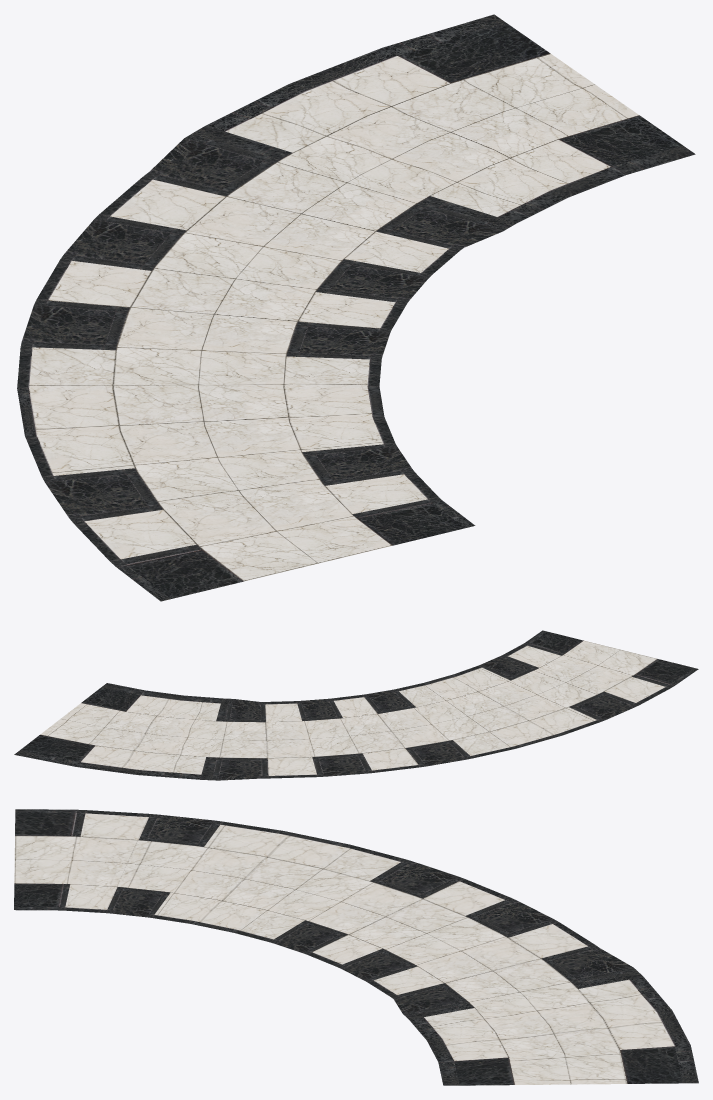
The model's file is Hallway_Floor.FBX.
3 renders of one model, top to bottom at view 1: azimuth 30°, elevation 25°; view 2: azimuth 150°, elevation 25°; view 3: azimuth 270°, elevation 25°, orthographic. The views are drawn at different scales.
Visible parts, largest first — view 1: SM_L_Hallway_Floor; view 2: SM_L_Hallway_Floor; view 3: SM_L_Hallway_Floor.
Boxes of the visible parts, <box> form: SM_L_Hallway_Floor: <box>17,14,695,601</box>; SM_L_Hallway_Floor: <box>14,630,698,780</box>; SM_L_Hallway_Floor: <box>14,809,698,1085</box>.
Bounding box in the file's own units: 2315 × 2423 × 6.87e-05.
